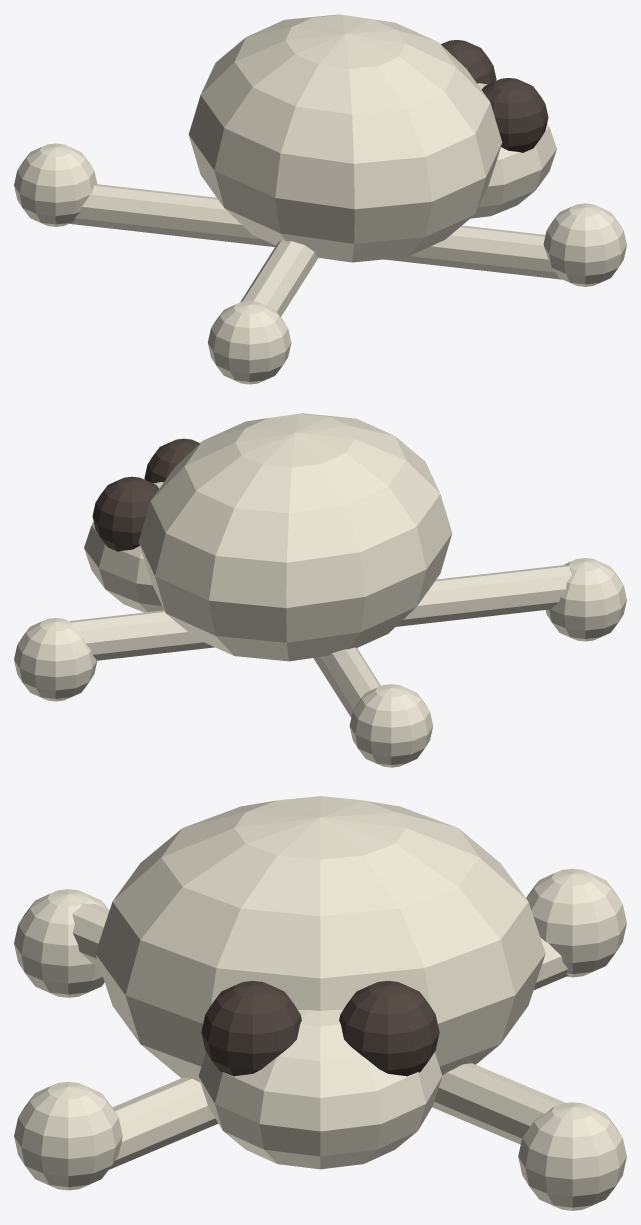
Rendered from bones.glb.
3 views of the same model, one above another, from view 1: azimuth 30°, elevation 25°; view 2: azimuth 150°, elevation 25°; view 3: azimuth 270°, elevation 25° (orthographic). The views are drawn at different scales.
Parts seen in each view (by area): view 1: Skull_Cranium.001, Bone_A_Shaft.001, Bone_A_Knob.003, Bone_B_Knob.002, Bone_B_Knob.003, Skull_Jaw.001, Skull_Eye_L.001, Bone_B_Shaft.001, Skull_Eye_R.001; view 2: Skull_Cranium.001, Bone_B_Shaft.001, Bone_B_Knob.003, Bone_A_Knob.002, Bone_A_Knob.003, Skull_Jaw.001, Skull_Eye_R.001, Bone_A_Shaft.001, Skull_Eye_L.001; view 3: Skull_Cranium.001, Skull_Jaw.001, Bone_B_Knob.002, Bone_A_Knob.002, Bone_B_Knob.003, Bone_B_Shaft.001, Skull_Eye_L.001, Skull_Eye_R.001, Bone_A_Knob.003, Bone_A_Shaft.001.
Boxes of the visible parts, <box> form: Skull_Cranium.001: <box>188,14,502,262</box>; Bone_A_Shaft.001: <box>69,184,561,279</box>; Bone_A_Knob.003: <box>207,301,291,384</box>; Bone_B_Knob.002: <box>543,203,626,286</box>; Bone_B_Knob.003: <box>14,143,97,226</box>; Skull_Jaw.001: <box>470,83,556,218</box>; Skull_Eye_L.001: <box>482,78,548,152</box>; Bone_B_Shaft.001: <box>240,240,318,316</box>; Skull_Eye_R.001: <box>441,40,496,84</box>; Skull_Cranium.001: <box>138,413,452,661</box>; Bone_B_Shaft.001: <box>69,565,571,660</box>; Bone_B_Knob.003: <box>349,684,432,767</box>; Bone_A_Knob.002: <box>14,618,97,701</box>; Bone_A_Knob.003: <box>545,558,626,641</box>; Skull_Jaw.001: <box>84,482,163,612</box>; Skull_Eye_R.001: <box>92,476,158,551</box>; Bone_A_Shaft.001: <box>313,647,380,717</box>; Skull_Eye_L.001: <box>144,438,199,483</box>; Skull_Cranium.001: <box>95,796,545,1082</box>; Skull_Jaw.001: <box>198,1010,442,1169</box>; Bone_B_Knob.002: <box>14,1081,122,1190</box>; Bone_A_Knob.002: <box>518,1102,626,1210</box>; Bone_B_Knob.003: <box>526,868,626,977</box>; Bone_B_Shaft.001: <box>72,903,565,1144</box>; Skull_Eye_L.001: <box>201,981,301,1076</box>; Skull_Eye_R.001: <box>339,981,439,1076</box>; Bone_A_Knob.003: <box>14,889,107,997</box>; Bone_A_Shaft.001: <box>109,937,568,1169</box>.
Bounding box in the file's own units: 0.412 × 0.21 × 0.392.
